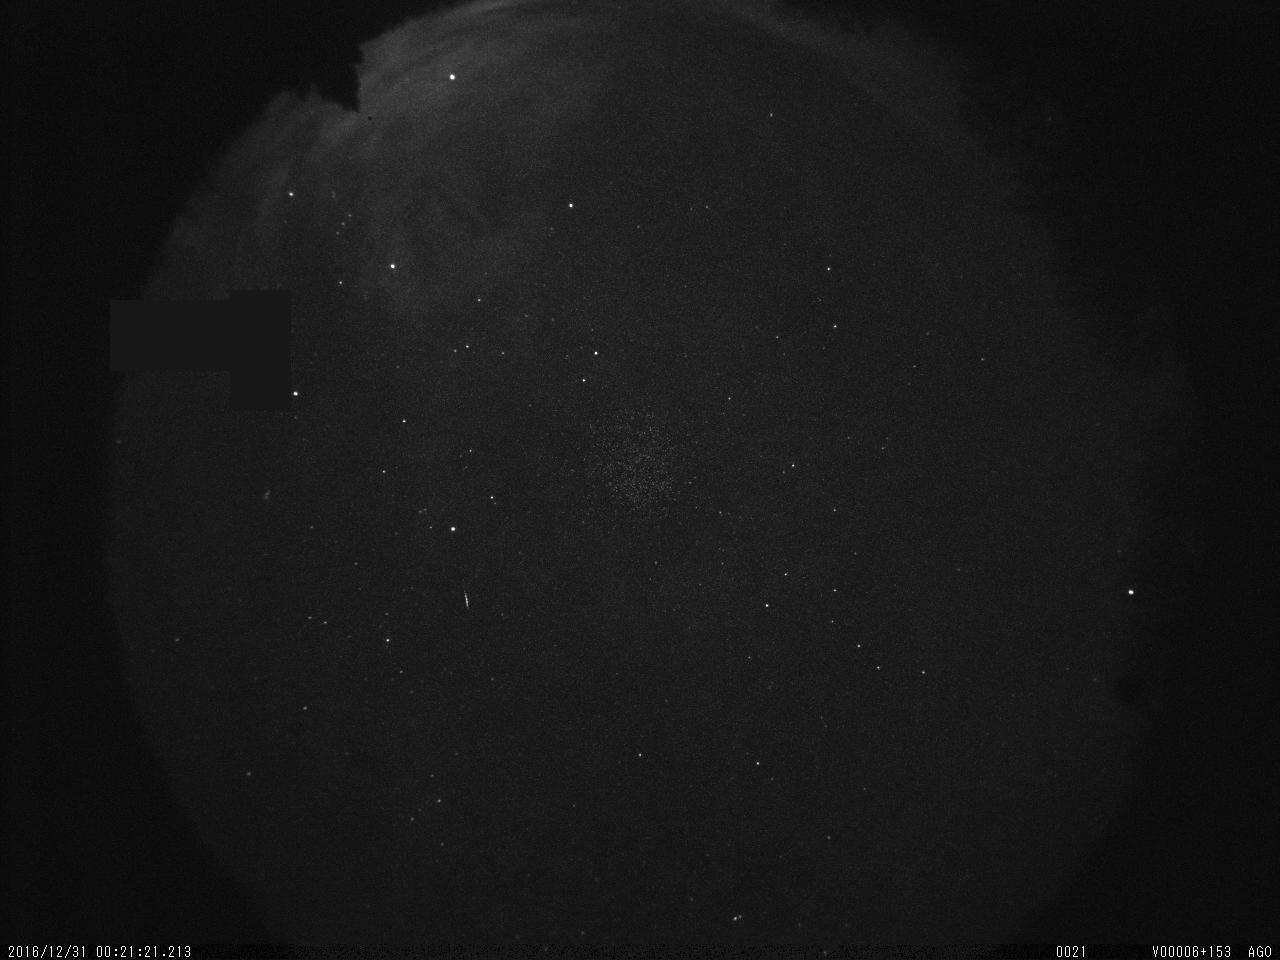Meteor: (459, 587, 471, 613)
